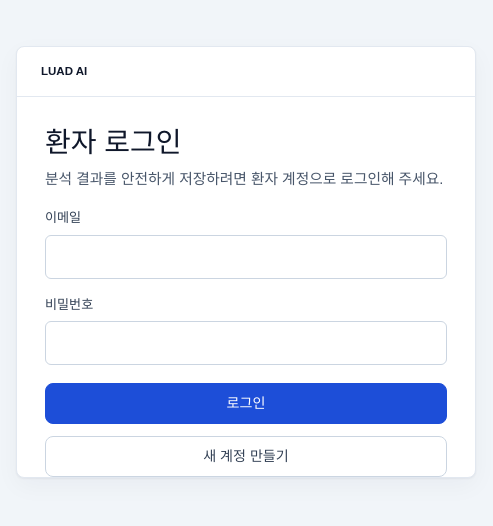
Test: shows a Korean message for {"code":"email_not_confirmed","message":"Email not confirmed"}
Type "test@example.com" into the field labelled "이메일" at (246,257), box [45,235,447,279]
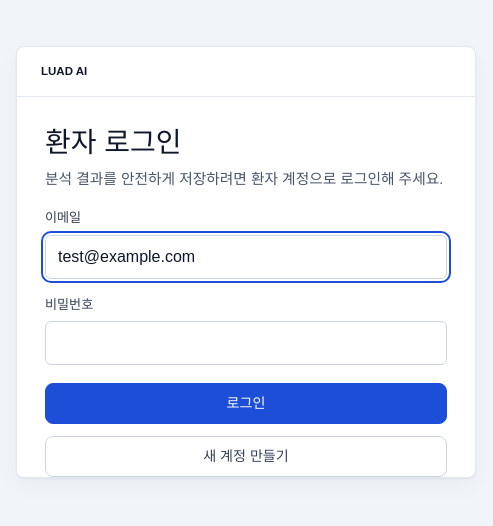
Type "wrong-password" into the password field labelled "비밀번호" at (246,343), box [45,321,447,365]
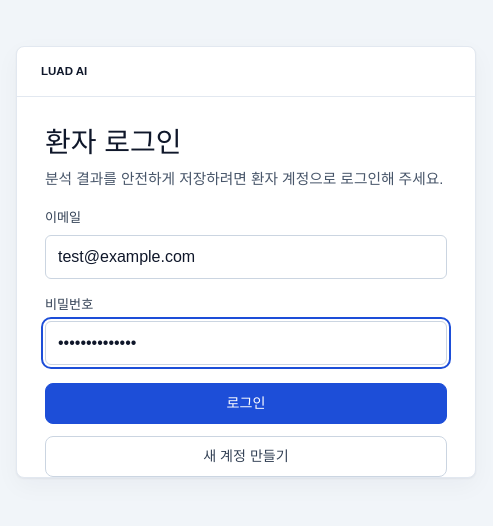
Click the button "로그인" at (246,404), box [45,383,447,424]
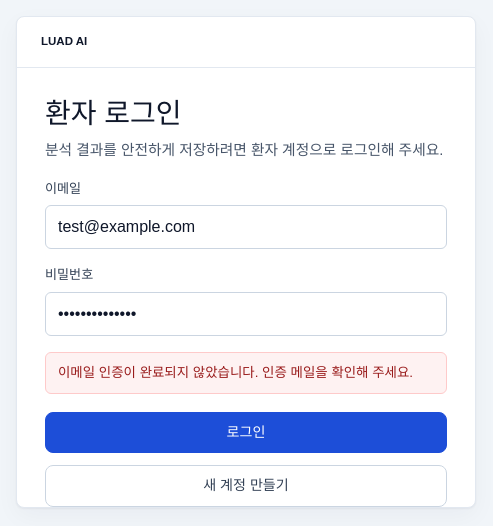
Expected: the button "로그인" is enabled, [45,412,447,453]
Expected: the text "이메일 인증이 완료되지 않았습니다. 인증 메일을 확인해 주세요." is shown, [45,352,447,394]
